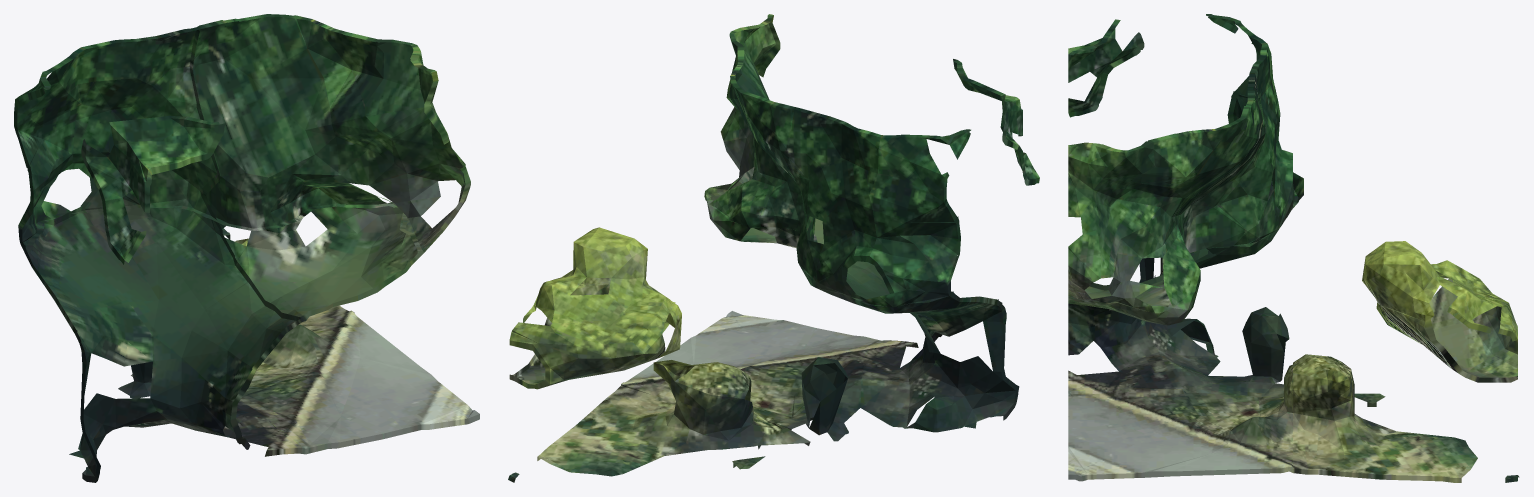
Rendered from BuildingMesh-00032.gltf.
3 views of the same model, side by side, from view 1: azimuth 30°, elevation 25°; view 2: azimuth 150°, elevation 25°; view 3: azimuth 270°, elevation 25° (orthographic). The views are drawn at different scales.
Visible parts, largest first — view 1: BuildingMesh-00032; view 2: BuildingMesh-00032; view 3: BuildingMesh-00032.
Boxes of the visible parts, bbox=[...] form: BuildingMesh-00032: bbox=[14, 14, 479, 482]; BuildingMesh-00032: bbox=[508, 14, 1039, 482]; BuildingMesh-00032: bbox=[1068, 14, 1519, 482].
Bounding box in the file's own units: 0.7804 × 0.7569 × 0.9765.
1 material, 1 textured.
